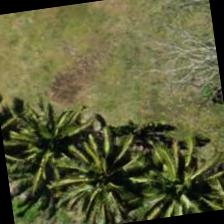Kelapa_Sawit: (50, 126, 153, 223), (0, 97, 91, 198), (125, 136, 223, 223)
